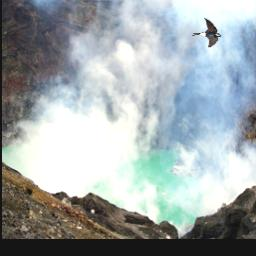Swallow: (191, 19, 221, 48)
